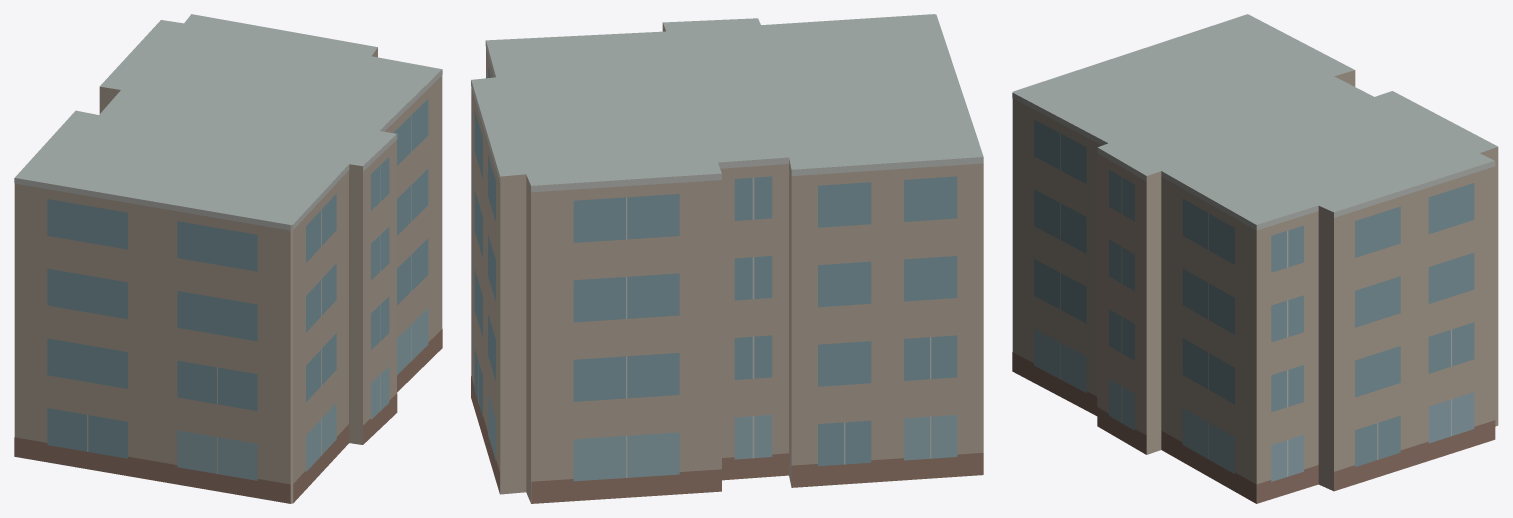
The model's file is survey-upis-32780487.glb.
3 views of the same model, side by side, from view 1: azimuth 30°, elevation 25°; view 2: azimuth 150°, elevation 25°; view 3: azimuth 270°, elevation 25° (orthographic). The views are drawn at different scales.
Visible parts, largest first — view 1: survey-upis-32780487.tmp; view 2: survey-upis-32780487.tmp; view 3: survey-upis-32780487.tmp.
Boxes of the visible parts, x1,y1,x2,y2 form: survey-upis-32780487.tmp: [14, 14, 442, 503]; survey-upis-32780487.tmp: [471, 14, 983, 503]; survey-upis-32780487.tmp: [1012, 14, 1498, 503].
Size of the model in its own units: 19.64 by 12.1 by 19.11.
